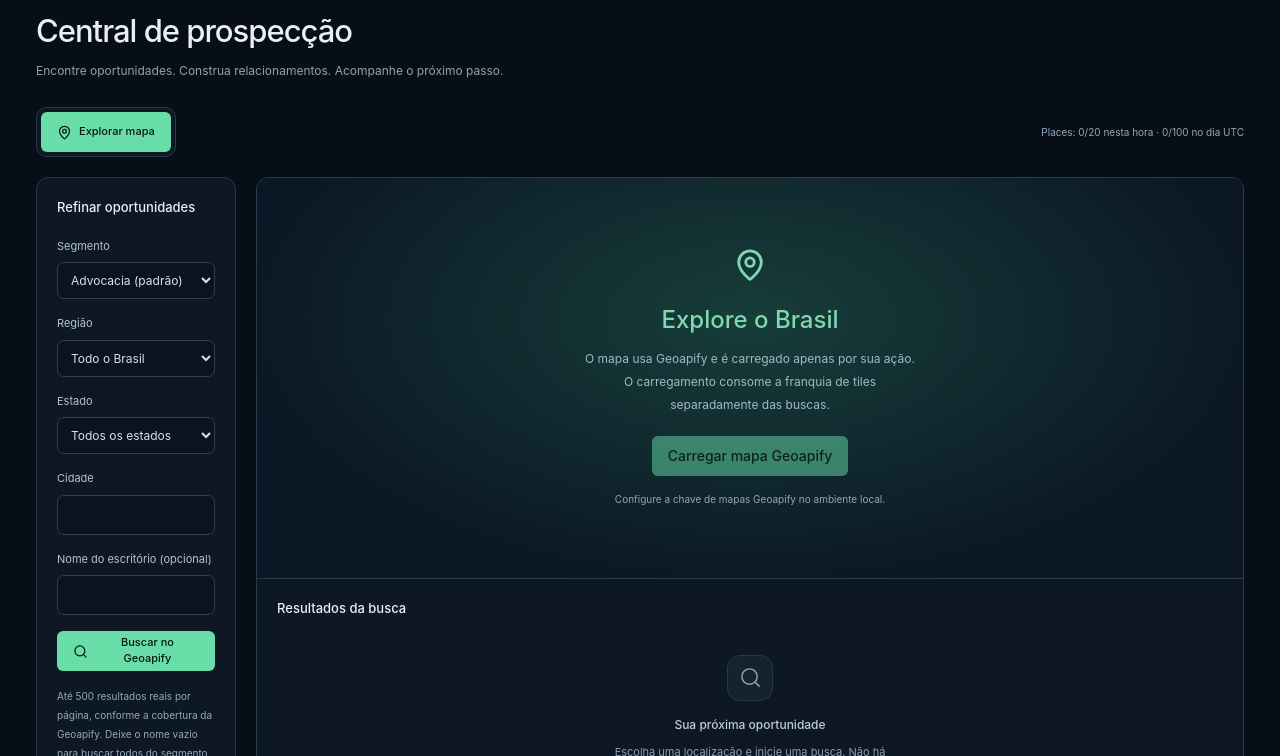
Test: reconcilia conflito concorrente e oferece abrir o lead já existente
Click the button "Buscar no Geoapify".
click(136, 651)  # box [57,631,215,671]
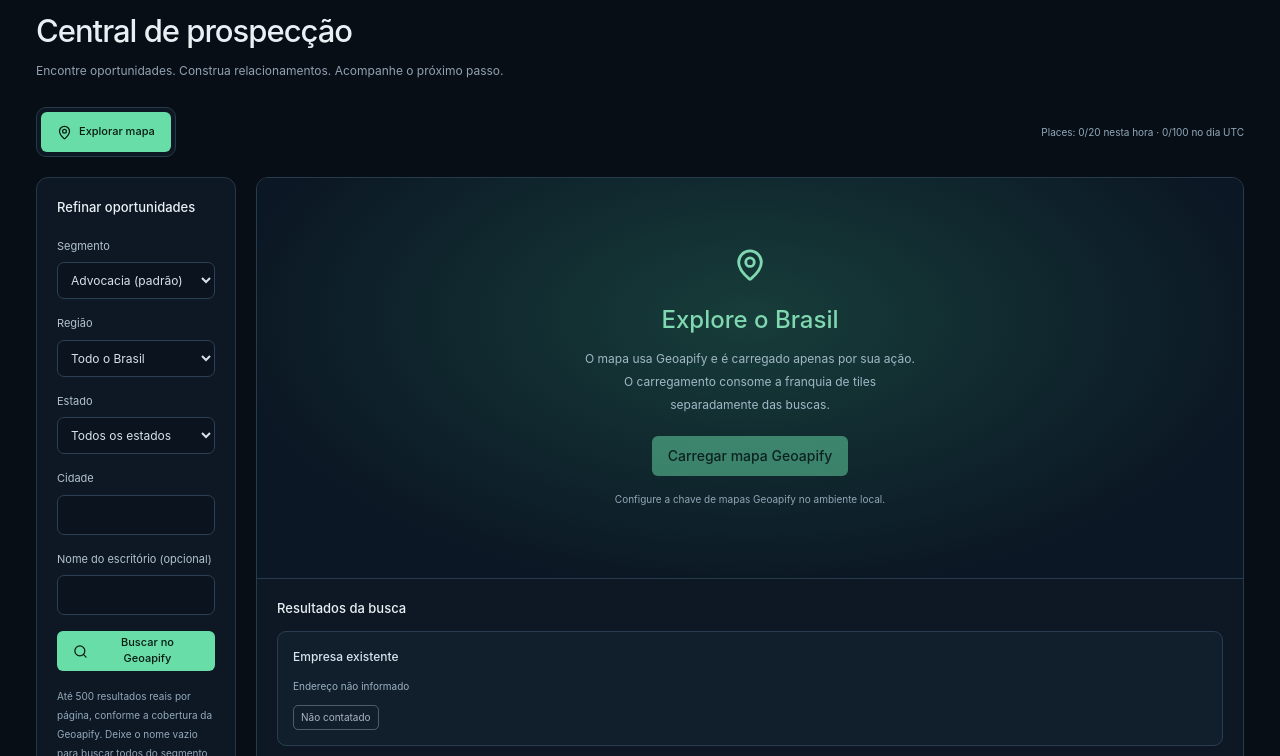
Click the button "Empresa existente Endereço não informado Não contatado".
click(346, 656)  # box [277,631,1223,746]
(page scrolled)
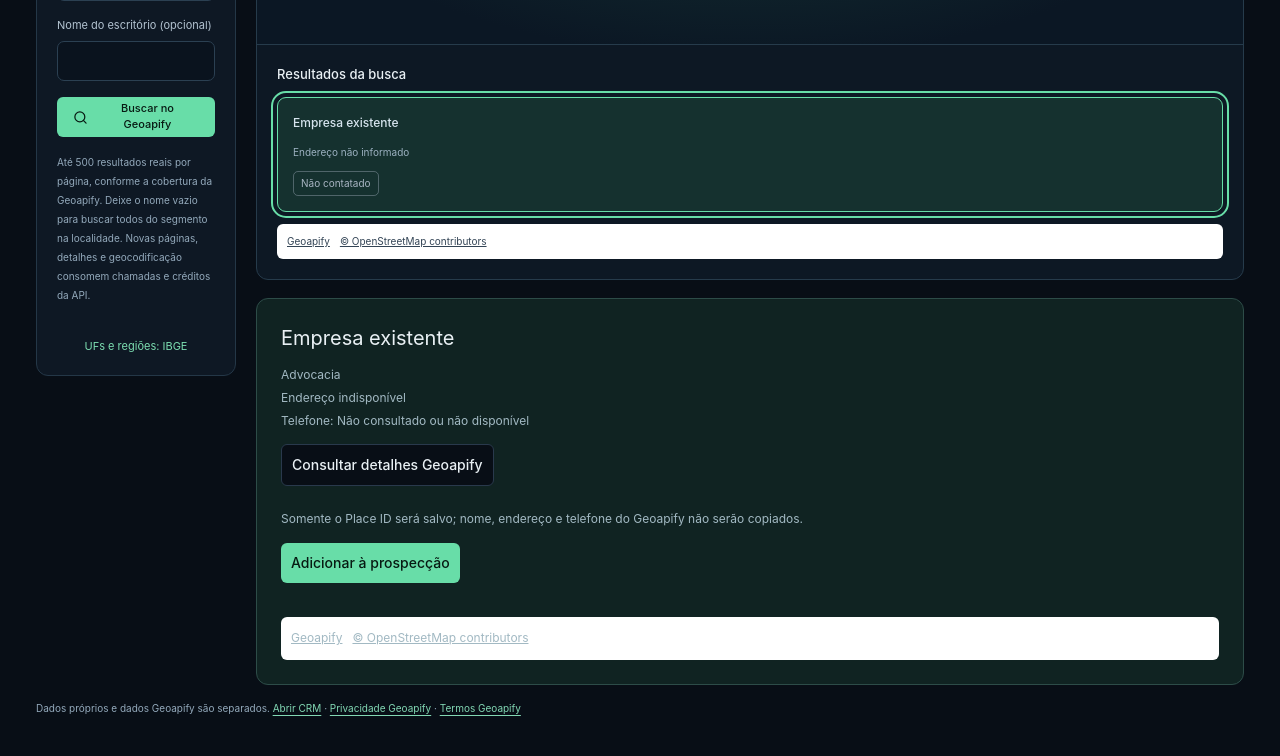
Click the button "Adicionar à prospecção".
click(370, 563)  # box [281,543,460,583]
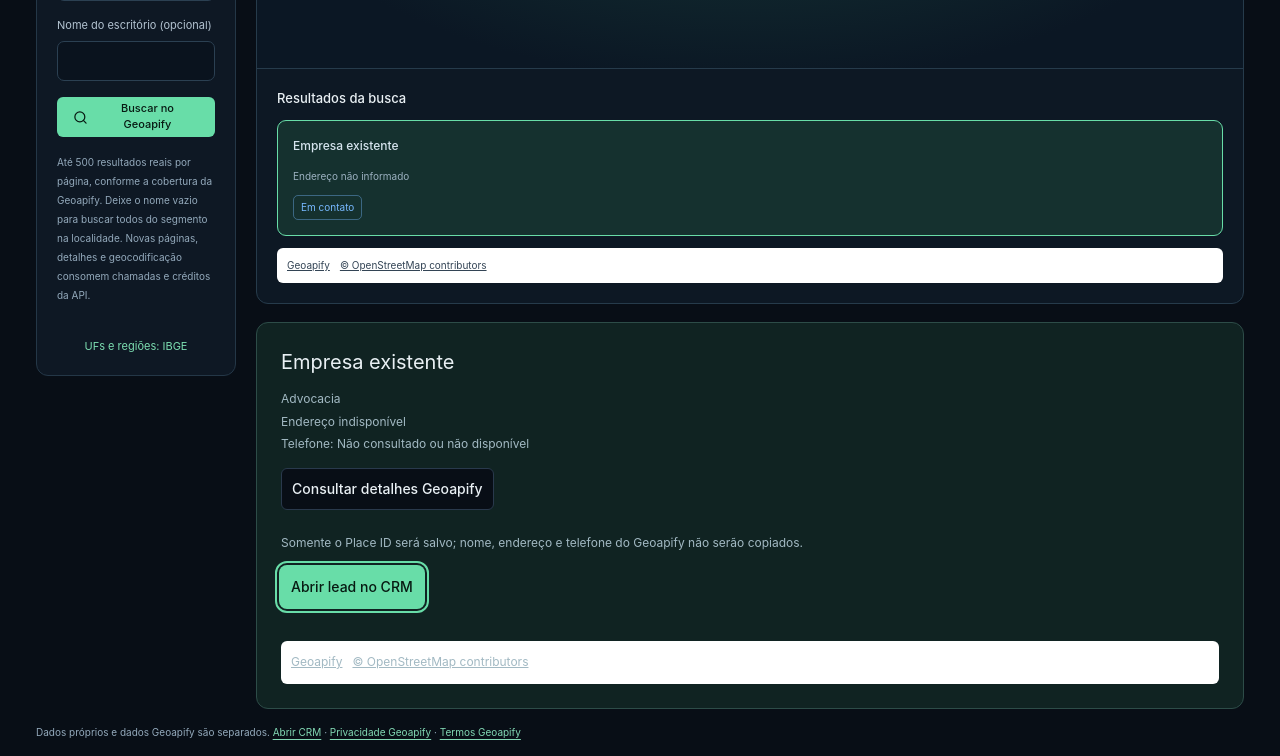
Check: the button "Abrir lead no CRM" is enabled, box [281,567,423,607]
Check: the button "Adicionar à prospecção" is gone
